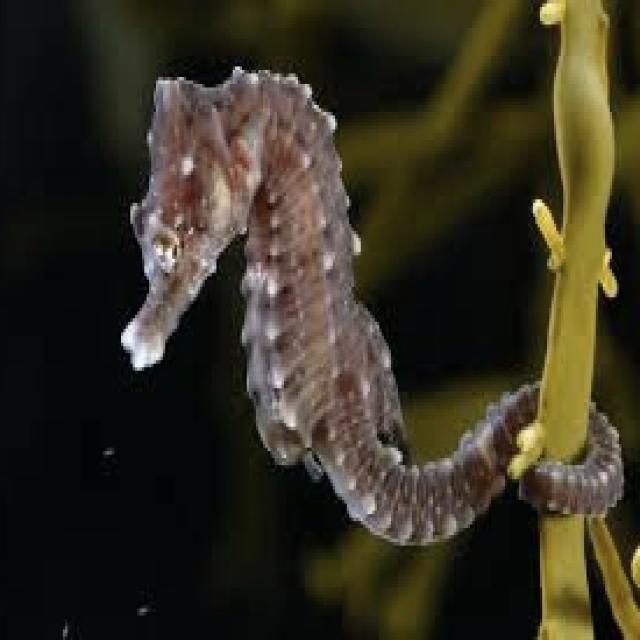seahorse: (123, 66, 538, 542), (521, 402, 621, 511)
